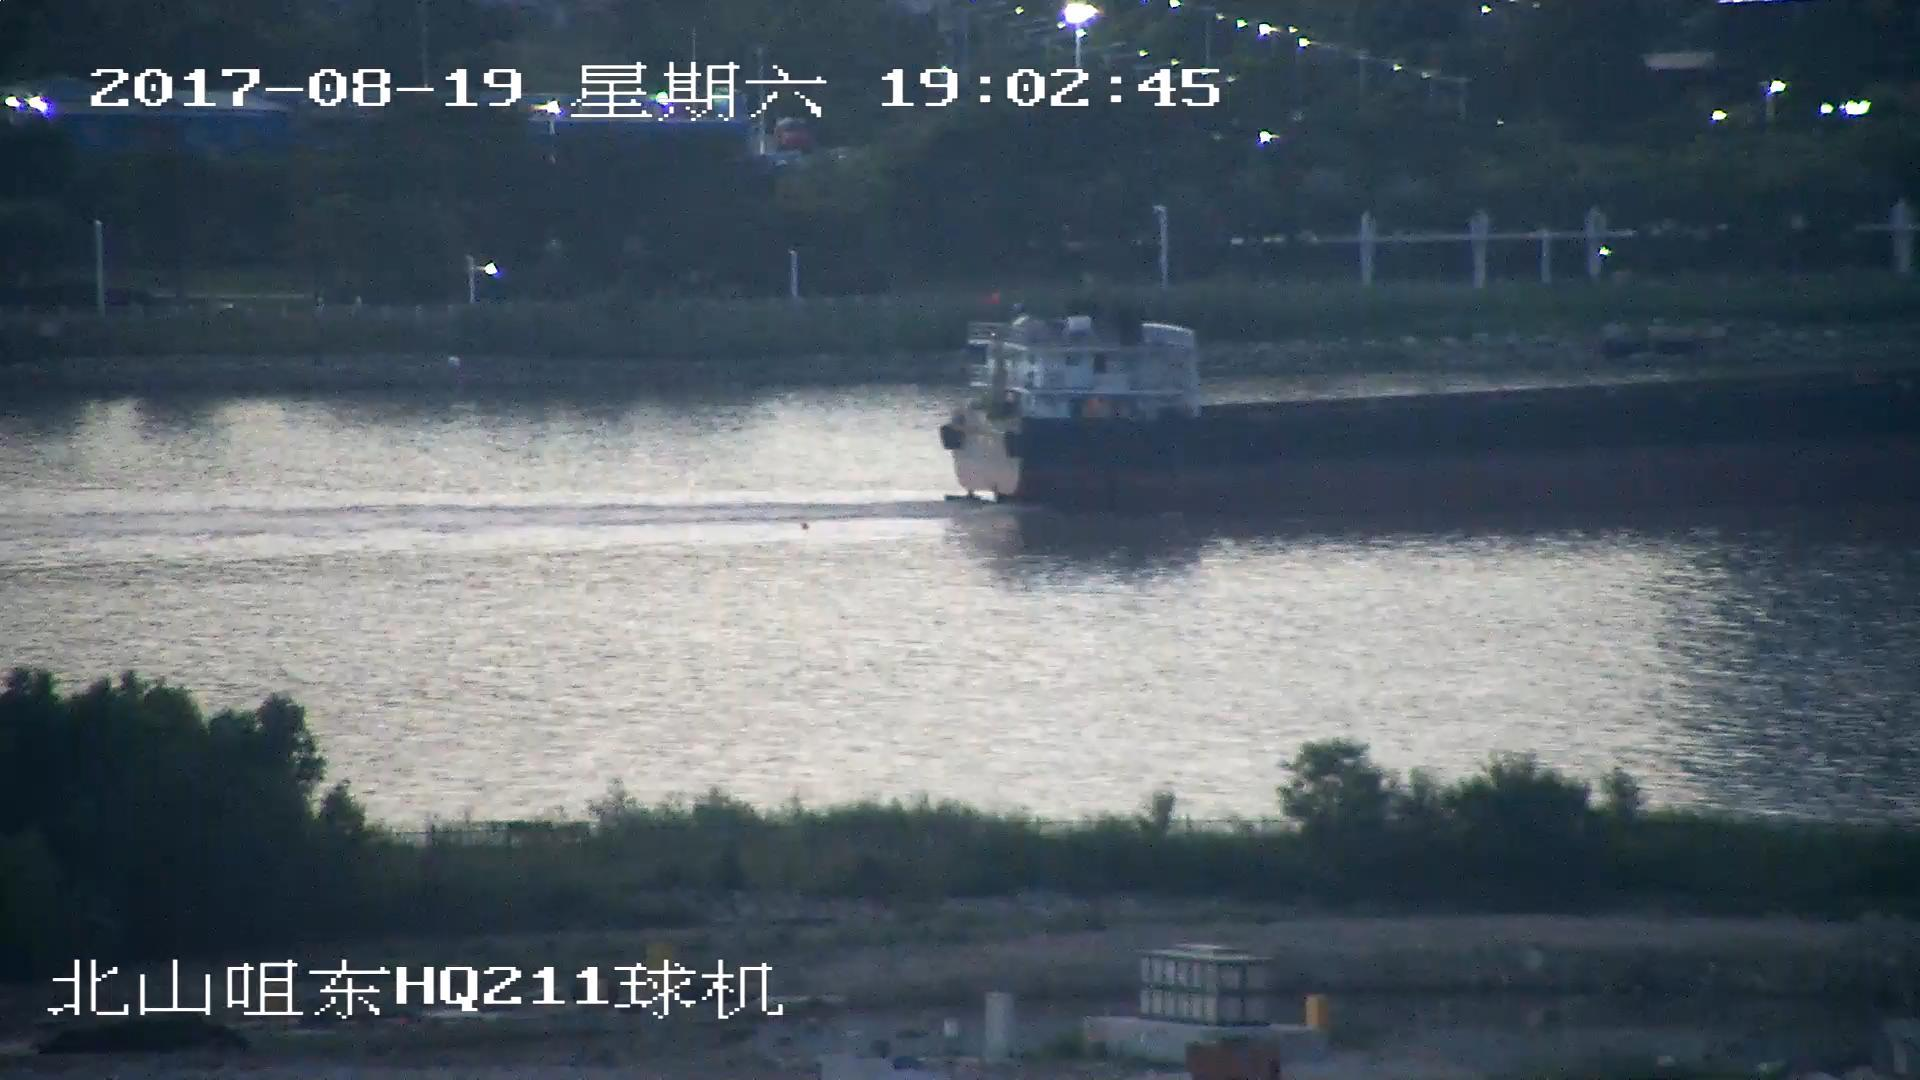Ship: (945, 318, 1920, 522)
